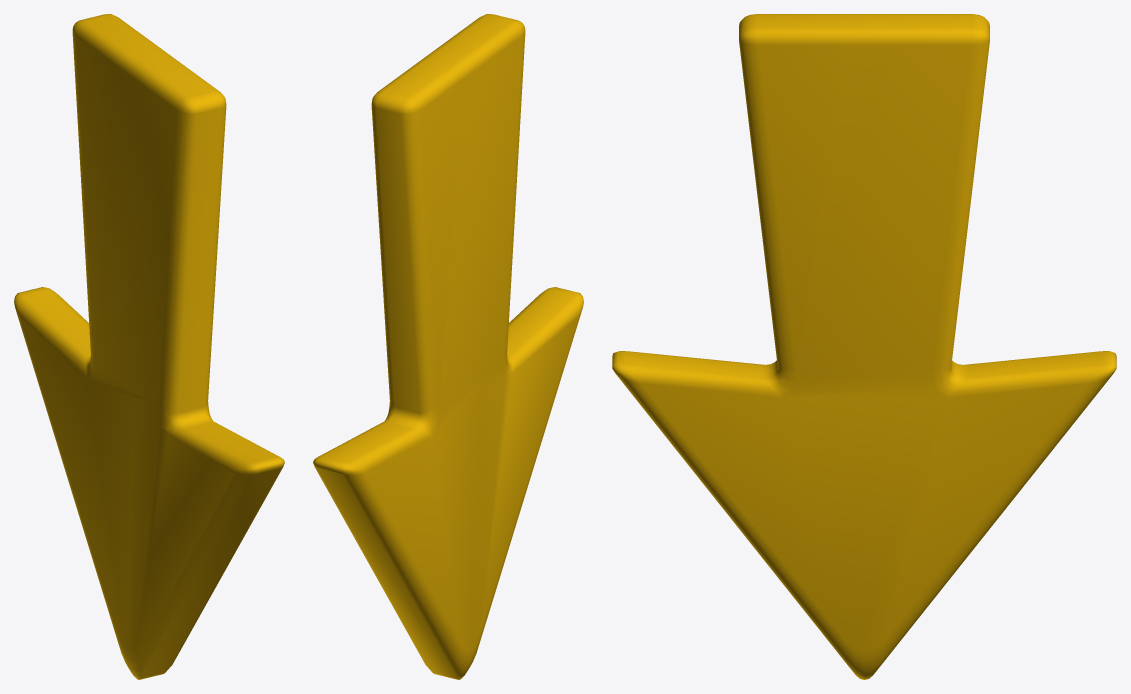
File: Arrow.gltf
The picture shows the model from 3 angles, left to right: view 1: azimuth 30°, elevation 25°; view 2: azimuth 150°, elevation 25°; view 3: azimuth 270°, elevation 25°; orthographic projection. The views are drawn at different scales.
Visible parts, largest first — view 1: Arrow; view 2: Arrow; view 3: Arrow.
Boxes of the visible parts, bbox=[...] form: Arrow: bbox=[14, 14, 284, 679]; Arrow: bbox=[313, 14, 583, 679]; Arrow: bbox=[612, 14, 1116, 679].
Bounding box in the file's own units: 0.2343 × 3.01 × 2.11.
